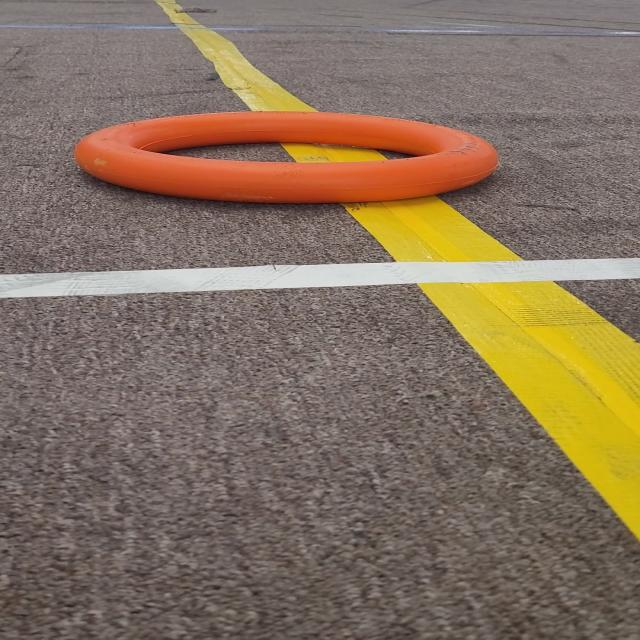note: (51, 104, 538, 209)
